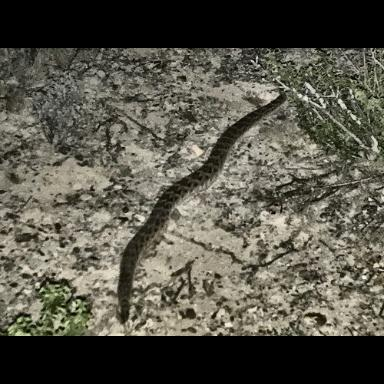snake: (117, 97, 284, 334)
